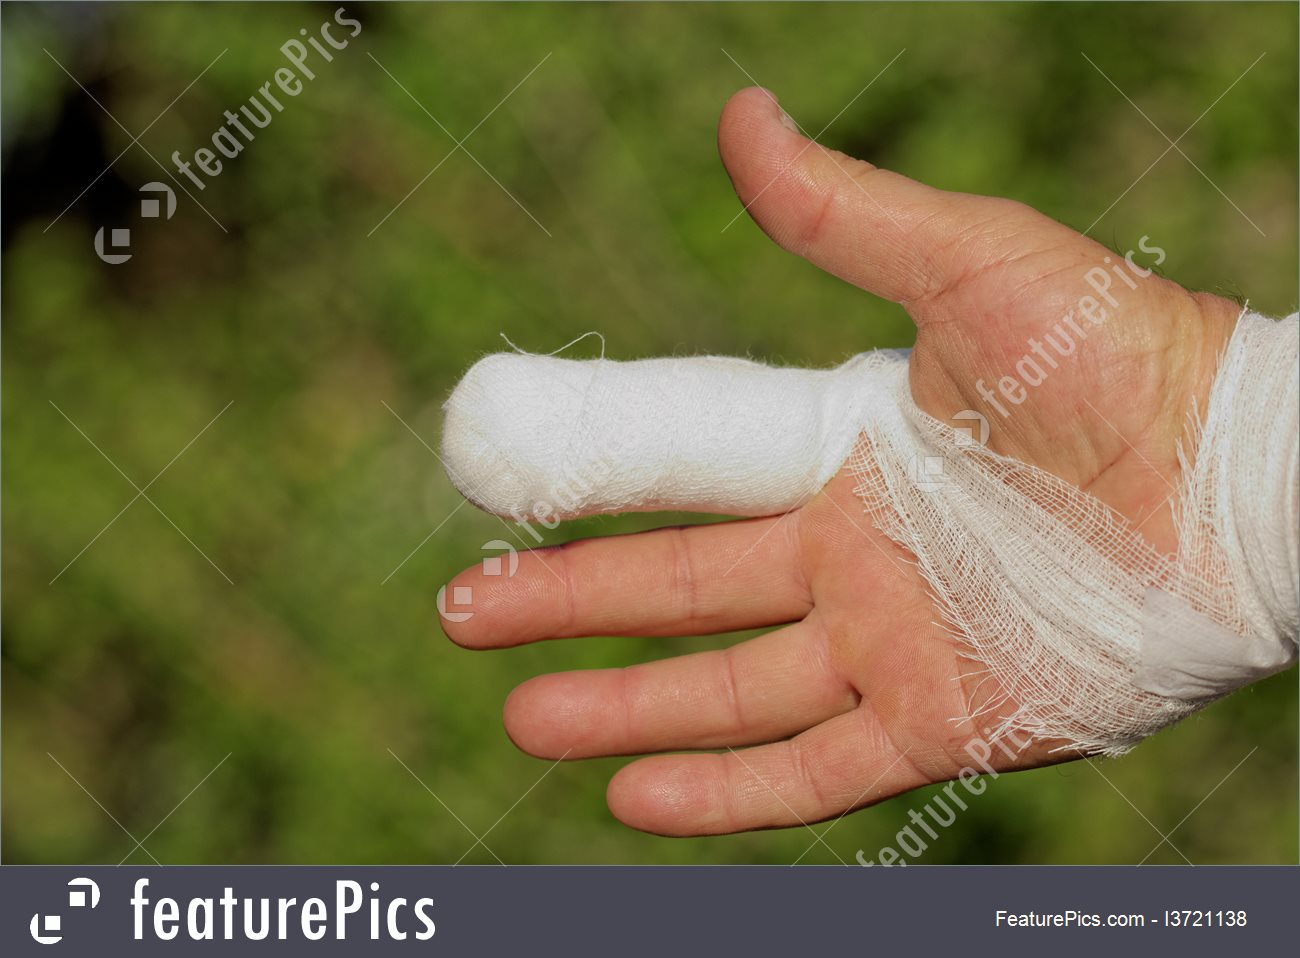injured: (453, 185, 1293, 774)
